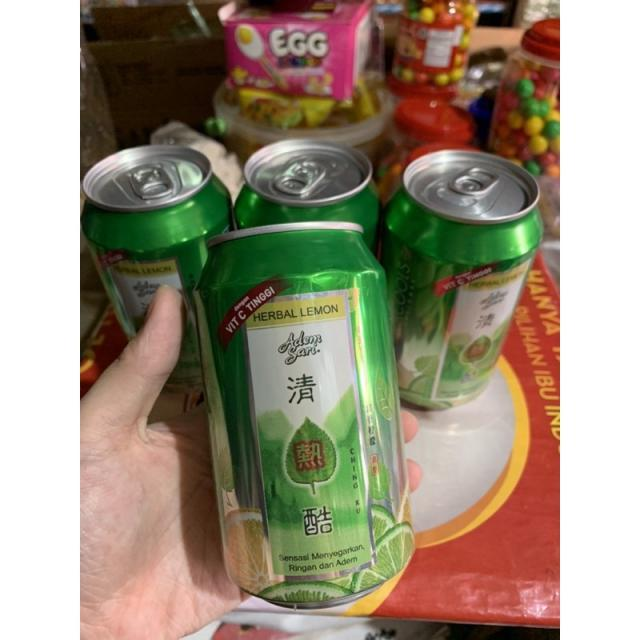ademsarikaleng: (191, 222, 416, 611), (381, 147, 544, 411), (78, 143, 233, 394)
